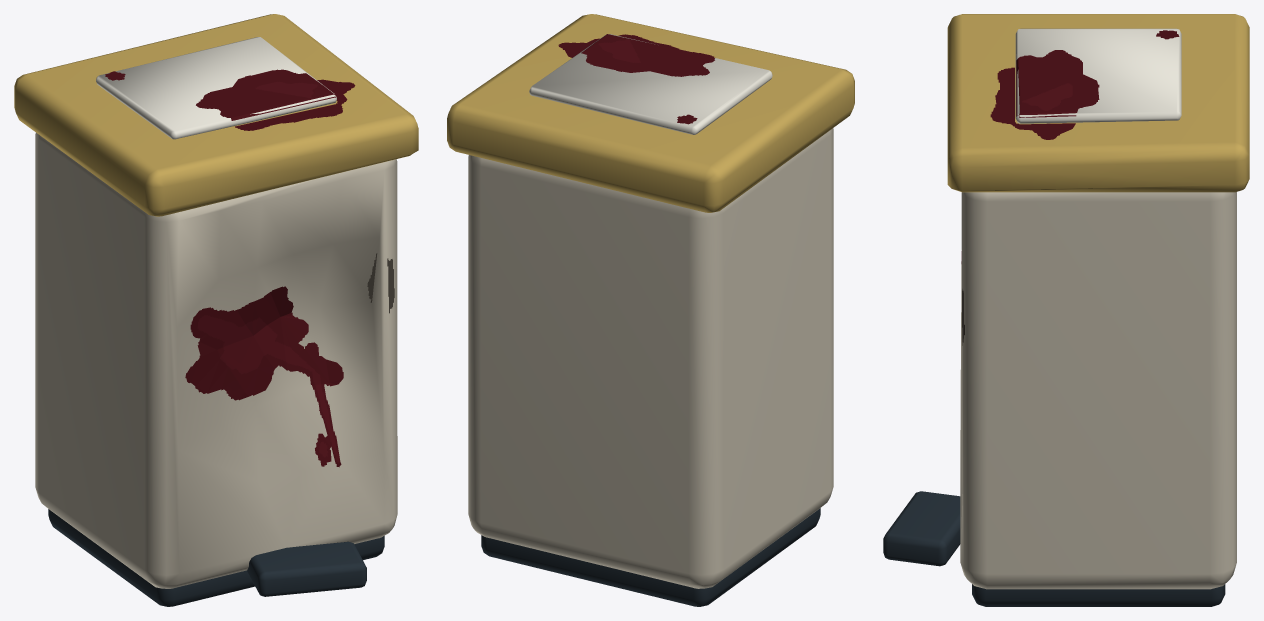
The model's file is lidded_waste_bin.glb.
3 views of the same model, side by side, from view 1: azimuth 30°, elevation 25°; view 2: azimuth 150°, elevation 25°; view 3: azimuth 270°, elevation 25° (orthographic). The views are drawn at different scales.
Parts seen in each view (by area): view 1: Outbreak_LiddedWasteBin_Static; view 2: Outbreak_LiddedWasteBin_Static; view 3: Outbreak_LiddedWasteBin_Static.
Part boxes in pixels (left/top/right/bottom): Outbreak_LiddedWasteBin_Static: left=14, top=14, right=418, bottom=606; Outbreak_LiddedWasteBin_Static: left=447, top=14, right=854, bottom=606; Outbreak_LiddedWasteBin_Static: left=883, top=14, right=1249, bottom=606.
Bounding box in the file's own units: 0.36 × 0.5804 × 0.3979.
